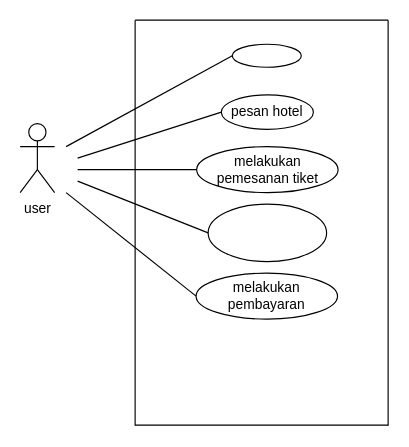
The diagram is 409 pixels wide and 447 high, and some of its shapes have lost their labels. The centre of each missing label's shape, as x and y in pixels:
"lihat pesanan saya" belongs at pixel 267 232.
"login" belongs at pixel 266 55.
